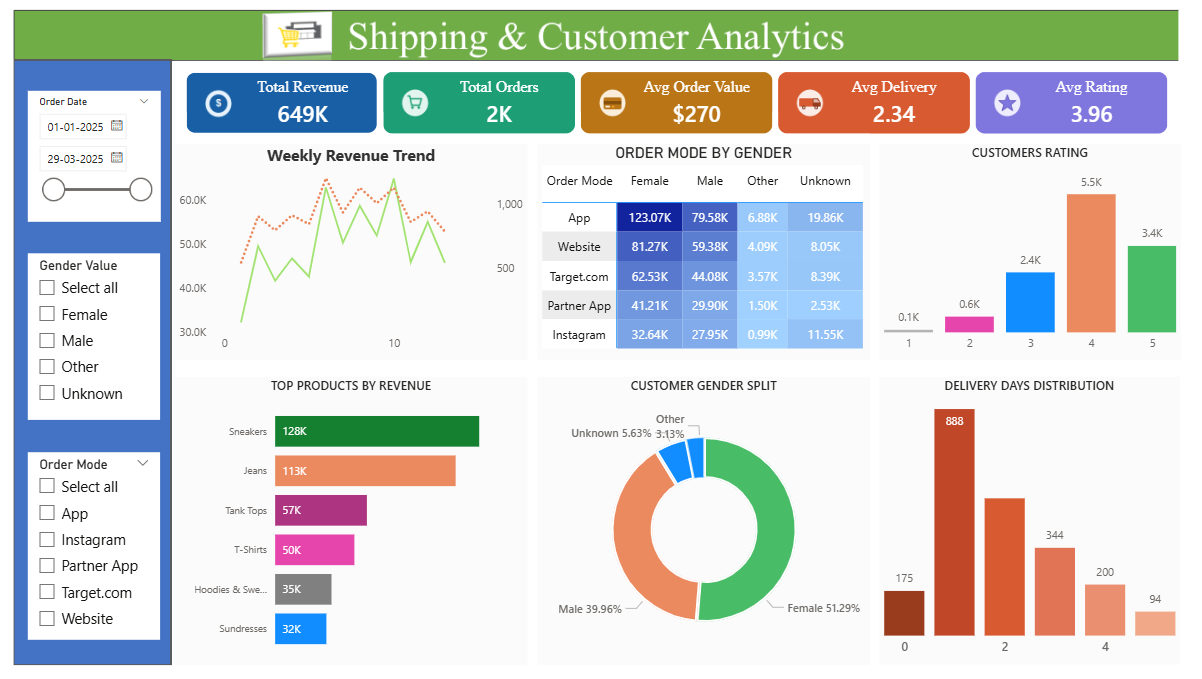

What the dashboard file says about the page in this screenshot:
{"tool":"powerbi","page":{"name":"Dashboard ","canvas":[1980,1080],"ordinal":0},"visuals":[{"type":"cardVisual","fields":{"Data":["Shipping Data.Total Revenue","Shipping Data.Total Orders","Shipping Data.Avg Order Value","Shipping Data.Avg Days to Deliver","Shipping Data.Avg Rating"]},"box":[526.6,232.8,1106.2,92.2],"z":0},{"type":"lineChart","title":"Weekly Revenue Trend","fields":{"Category":["Shipping Data.Weeknum"],"Y2":["Shipping Data.Total Quantity"],"Y":["Shipping Data.Total Revenue"]},"box":[526.6,325,387.5,237.5],"z":1000},{"type":"pivotTable","title":"ORDER MODE BY GENDER","fields":{"Rows":["Shipping Data.Order Mode"],"Values":["Shipping Data.Total Revenue"],"Columns":["Shipping Data.Gender Value"]},"box":[925,325,365.6,237.5],"z":2000},{"type":"columnChart","title":"CUSTOMERS RATING ","fields":{"Category":["Shipping Data.Rating C"],"Y":["Shipping Data.Total Quantity"]},"box":[1301.6,325,331.2,237.5],"z":3000},{"type":"barChart","title":"TOP PRODUCTS BY  REVENUE ","fields":{"Category":["Shipping Data.Product"],"Y":["Shipping Data.Total Revenue"]},"box":[526.6,579.7,387.5,317.2],"z":4000},{"type":"donutChart","title":"CUSTOMER GENDER SPLIT ","fields":{"Y":["Shipping Data.Total Orders"],"Category":["Shipping Data.Gender Value"]},"box":[925,579.7,365.6,317.2],"z":5000},{"type":"columnChart","title":"DELIVERY DAYS DISTRIBUTION","fields":{"Category":["Shipping Data.Days to Deliver"],"Y":["Shipping Data.Total Orders"]},"box":[1302,580,330,316],"z":6000},{"type":"slicer","fields":{"Values":["Shipping Data.Order Date"]},"box":[365.6,265.6,145.3,143.8],"z":7000},{"type":"slicer","fields":{"Values":["Shipping Data.Gender Value"]},"box":[365.6,443.8,145.3,182.8],"z":8000},{"type":"slicer","fields":{"Values":["Shipping Data.Order Mode"]},"box":[365.6,662.5,145.3,206.2],"z":9000}]}

Visuals, with their boxes on the page's 1980x1080 design canvas (x1, y1, x2, y2). These are canvas units, not pixel positions in the 1202x679 screenshot, which may show the page scaled, cropped or inside an application window:
cardVisual - Shipping Data.Total Revenue x Shipping Data.Total Orders: x1=527 y1=233 x2=1633 y2=325
"Weekly Revenue Trend" lineChart: x1=527 y1=325 x2=914 y2=562
"ORDER MODE BY GENDER" pivotTable: x1=925 y1=325 x2=1291 y2=562
"CUSTOMERS RATING " columnChart: x1=1302 y1=325 x2=1633 y2=562
"TOP PRODUCTS BY  REVENUE " barChart: x1=527 y1=580 x2=914 y2=897
"CUSTOMER GENDER SPLIT " donutChart: x1=925 y1=580 x2=1291 y2=897
"DELIVERY DAYS DISTRIBUTION" columnChart: x1=1302 y1=580 x2=1632 y2=896
slicer - Shipping Data.Order Date: x1=366 y1=266 x2=511 y2=409
slicer - Shipping Data.Gender Value: x1=366 y1=444 x2=511 y2=627
slicer - Shipping Data.Order Mode: x1=366 y1=662 x2=511 y2=869
